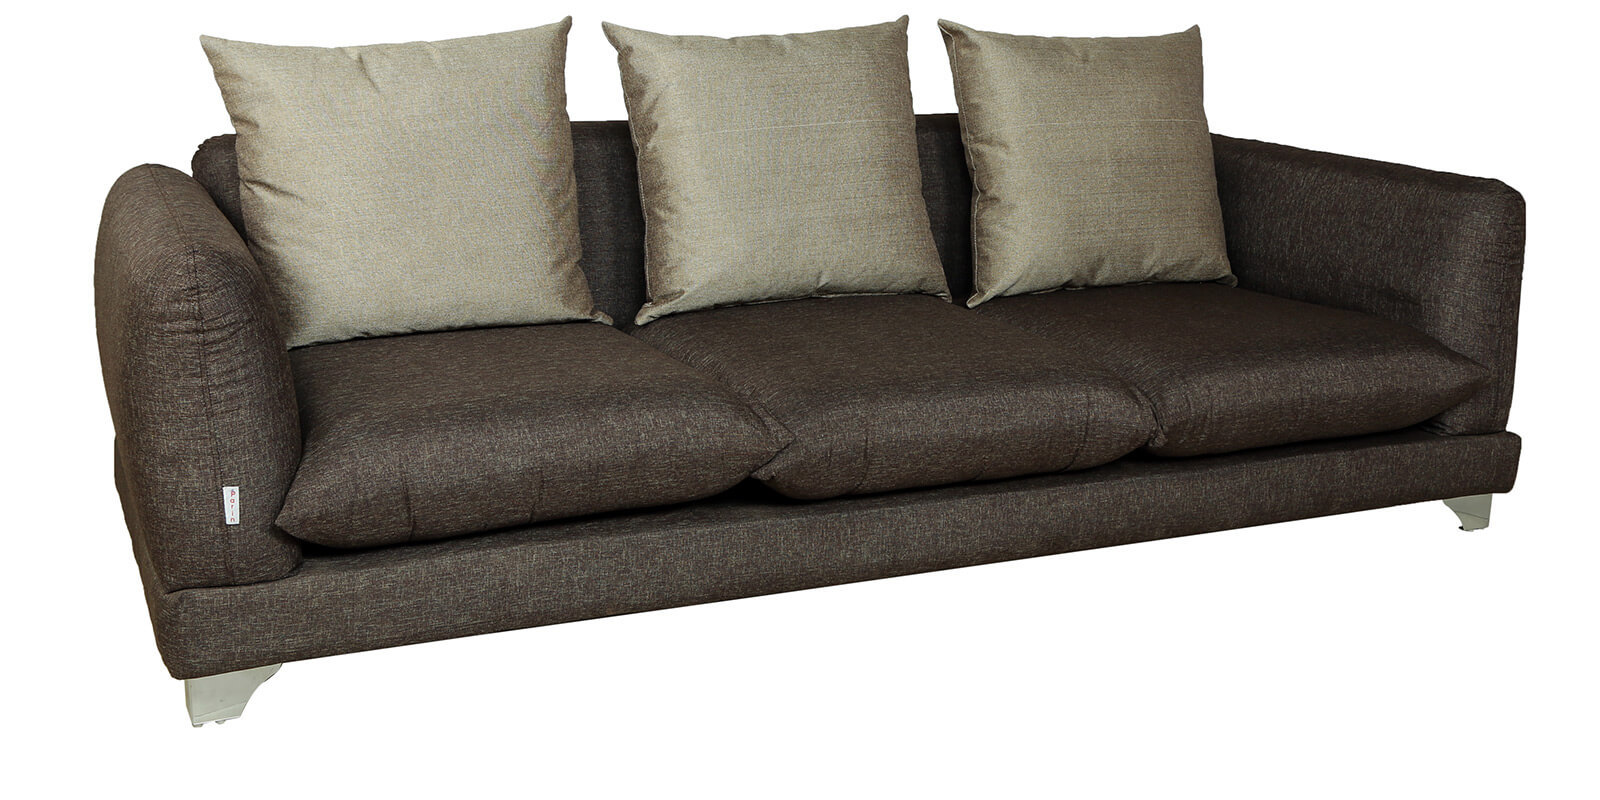Exclusive Three Seater Sofa in Dark Grey Colour by Parin: (31, 6, 1534, 708)
